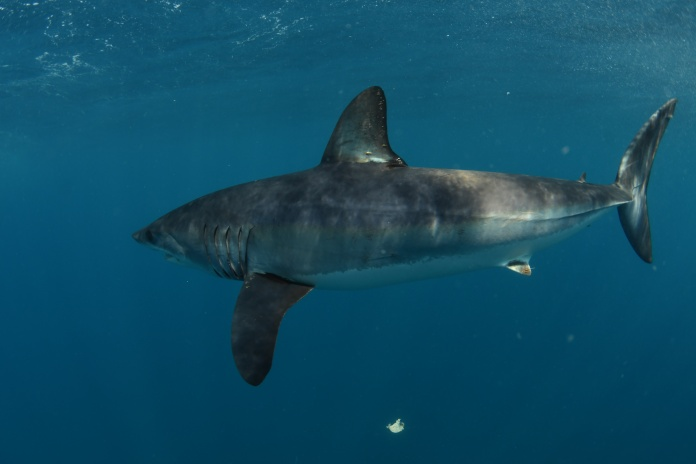Mako: (121, 71, 686, 394)
